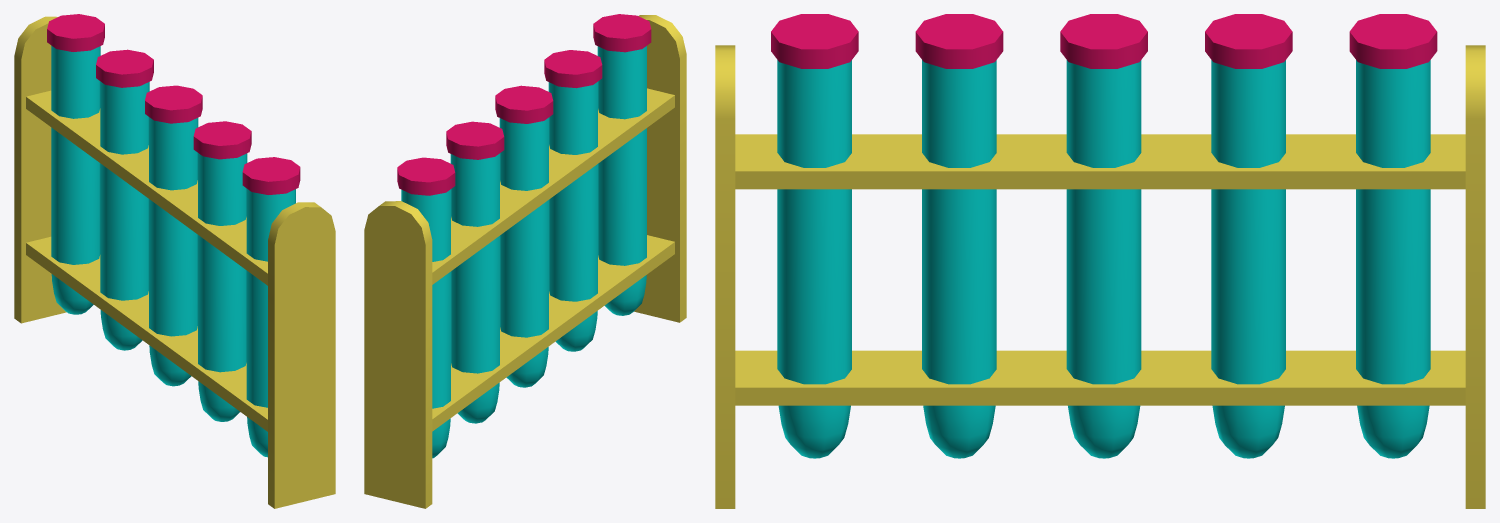
The model's file is VileCase.fbx.
The picture shows the model from 3 angles, left to right: view 1: azimuth 30°, elevation 25°; view 2: azimuth 150°, elevation 25°; view 3: azimuth 270°, elevation 25°; orthographic projection. The views are drawn at different scales.
Parts seen in each view (by area): view 1: Cube.010, Cylinder.133, Cylinder.134, Cylinder.135, Cylinder.136, Cylinder.137; view 2: Cube.010, Cylinder.134, Cylinder.135, Cylinder.137, Cylinder.136, Cylinder.133; view 3: Cube.010, Cylinder.135, Cylinder.133, Cylinder.136, Cylinder.134, Cylinder.137.
Boxes of the visible parts, box(x1,y1,x2,y2) form: Cube.010: box(14, 16, 335, 508); Cylinder.133: box(47, 14, 104, 314); Cylinder.134: box(96, 49, 153, 350); Cylinder.135: box(145, 85, 202, 386); Cylinder.136: box(193, 121, 251, 421); Cylinder.137: box(242, 157, 300, 457); Cube.010: box(364, 15, 686, 508); Cylinder.134: box(446, 121, 504, 423); Cylinder.135: box(495, 85, 553, 387); Cylinder.137: box(593, 14, 651, 315); Cylinder.136: box(544, 50, 602, 351); Cylinder.133: box(397, 157, 455, 458); Cube.010: box(715, 45, 1485, 508); Cylinder.135: box(1060, 14, 1147, 458); Cylinder.133: box(1349, 14, 1437, 458); Cylinder.136: box(915, 14, 1003, 458); Cylinder.134: box(1205, 14, 1292, 458); Cylinder.137: box(771, 14, 858, 458).
Size of the model in its own units: 0.071 by 0.3422 by 0.5245.
